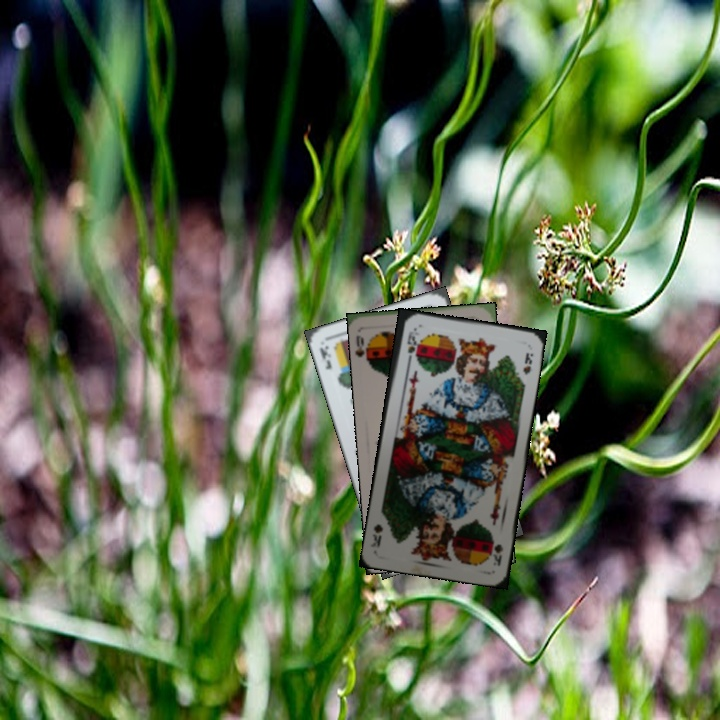EK: (315, 341, 334, 372)
SK: (403, 326, 419, 366), (487, 536, 506, 568)
SO: (352, 331, 374, 368)
